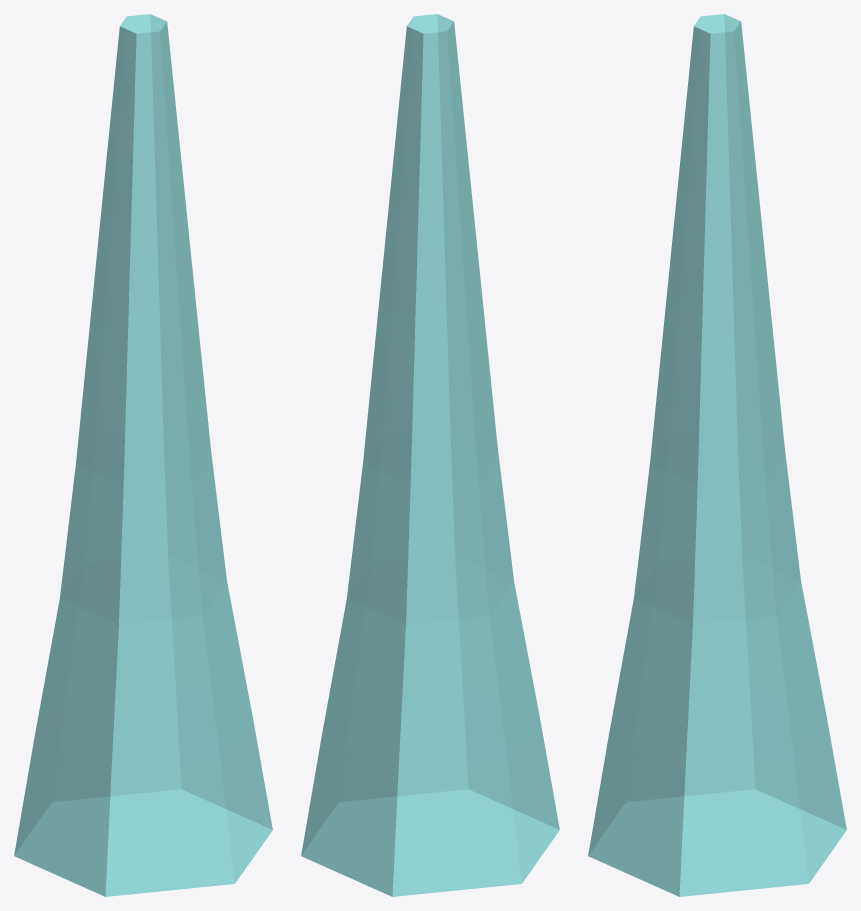
File: Stalagmite_Ice_01.fbx
3 renders of one model, left to right at view 1: azimuth 30°, elevation 25°; view 2: azimuth 150°, elevation 25°; view 3: azimuth 270°, elevation 25°, orthographic.
Visible parts, largest first — view 1: Model; view 2: Model; view 3: Model.
Boxes of the visible parts, <box> form: Model: <box>14,14,272,896</box>; Model: <box>301,14,559,896</box>; Model: <box>588,14,846,896</box>.
Bounding box in the file's own units: 99.84 × 354 × 101.
